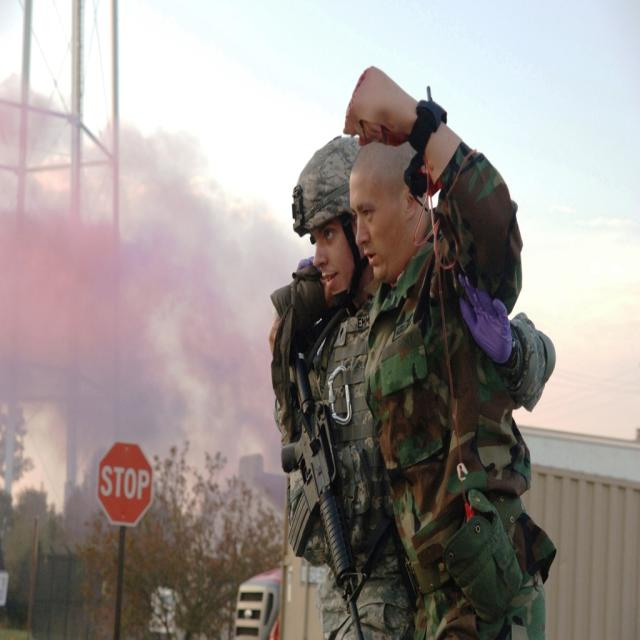Stop-sign: (96, 438, 154, 527)
